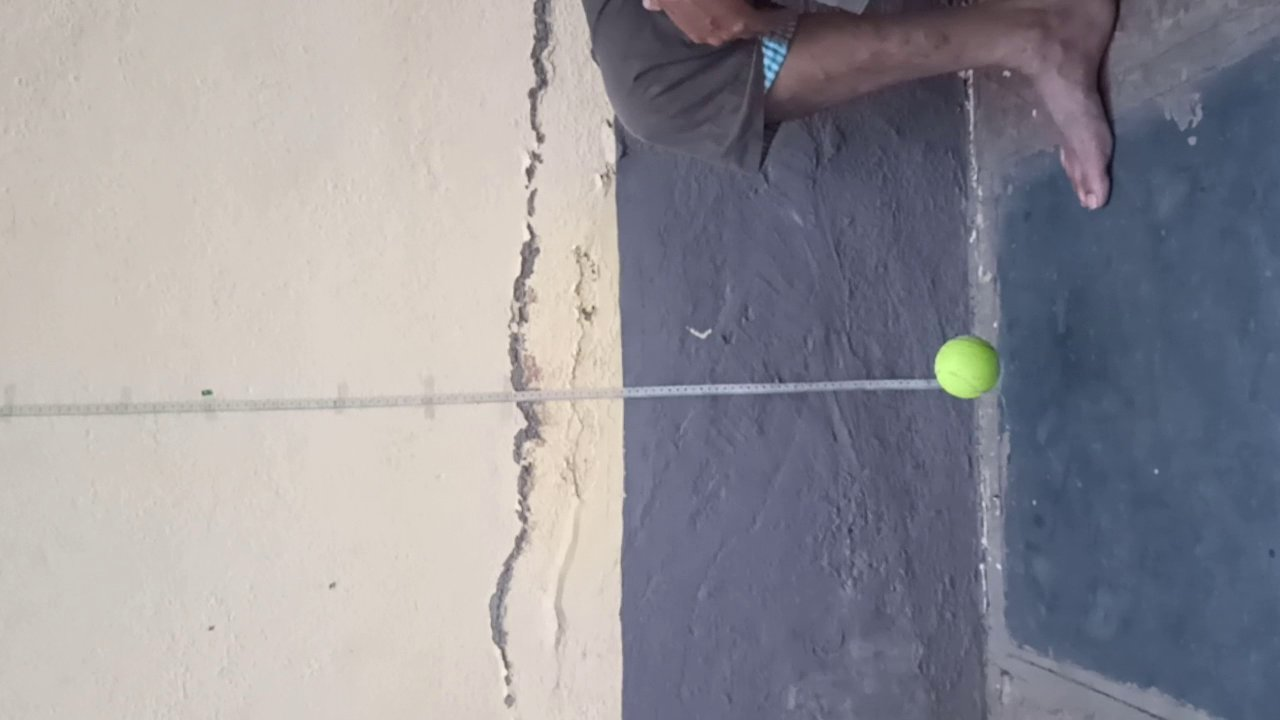Tennis-Ball: (935, 334, 1000, 398)
